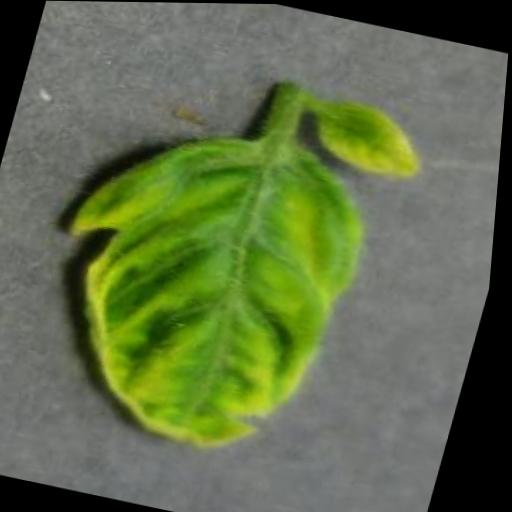Yellow Leaf Curl Virus: (15, 101, 387, 467), (301, 83, 441, 184)
